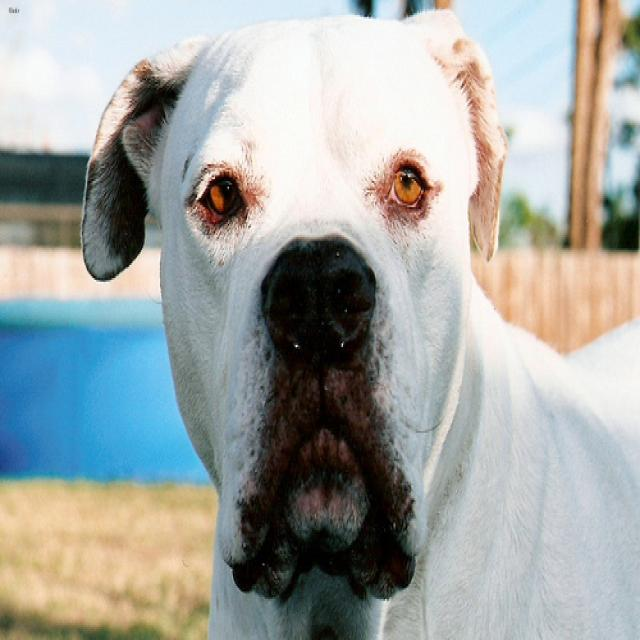dog-american_bulldog: (72, 2, 637, 636)
